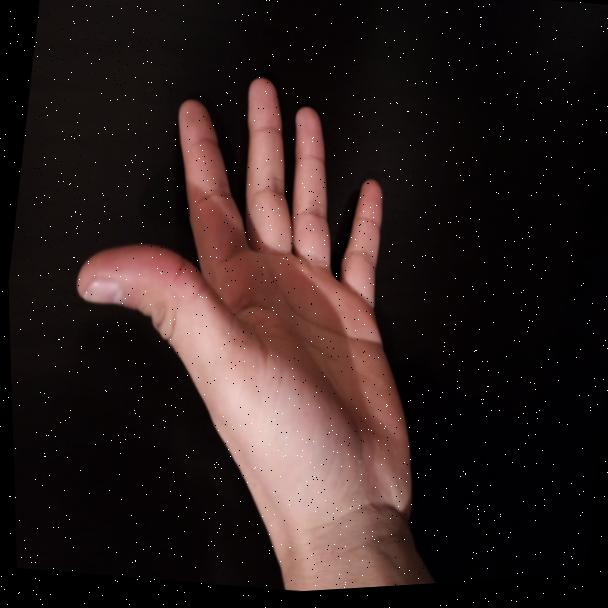five: (37, 47, 449, 554)
